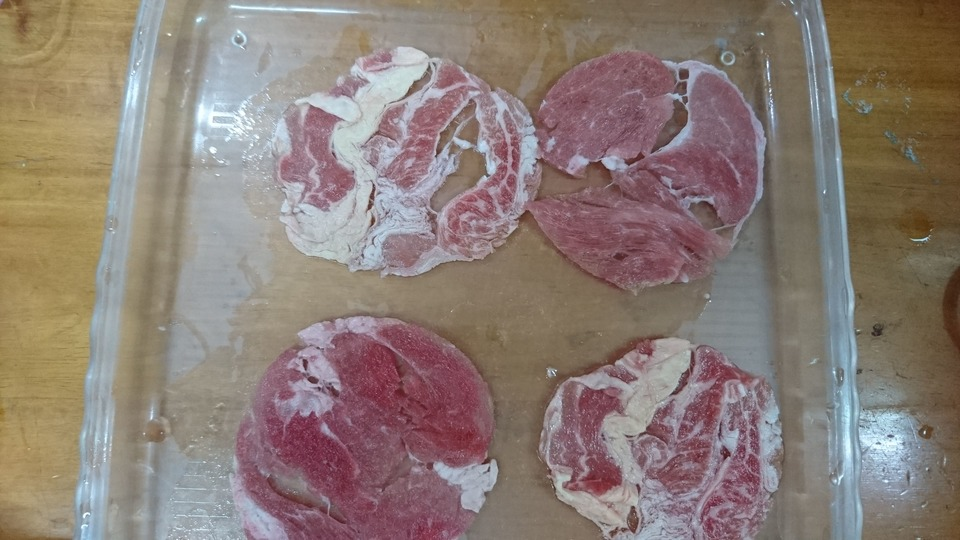restructured meat: (208, 311, 530, 533), (280, 33, 536, 280), (528, 44, 769, 297), (529, 326, 792, 540)
